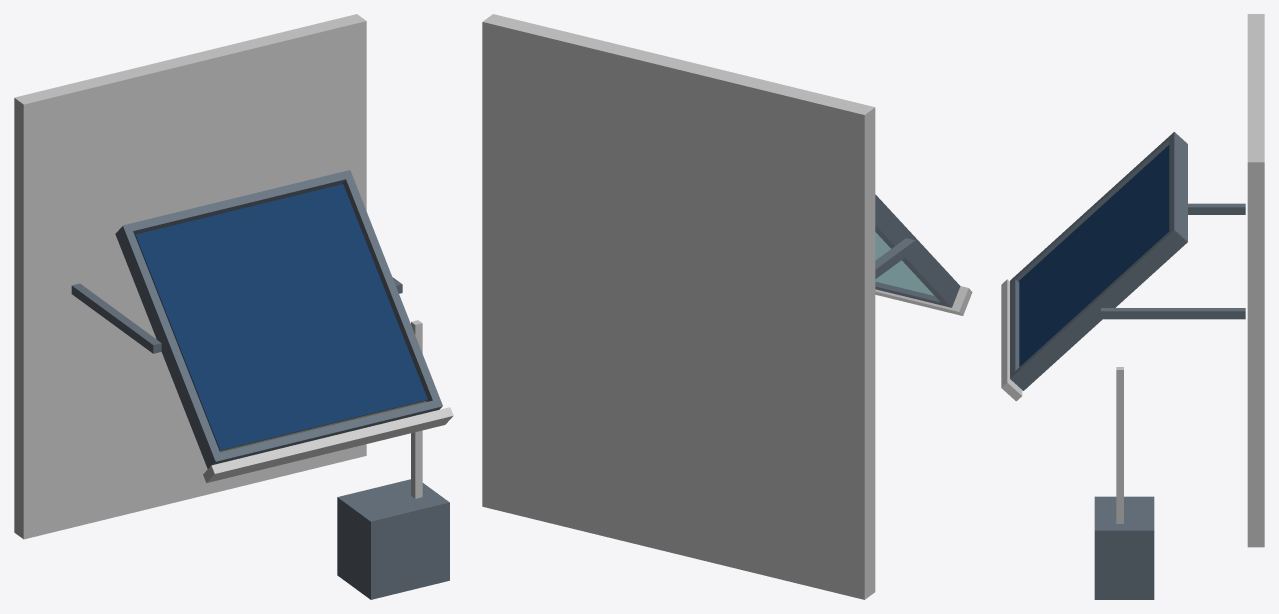
Rendered from facade-solar.obj.
3 views of the same model, side by side, from view 1: azimuth 30°, elevation 25°; view 2: azimuth 150°, elevation 25°; view 3: azimuth 270°, elevation 25° (orthographic). The views are drawn at different scales.
Parts seen in each view (by area): view 1: facade_section, pv_face, tank_concept, side_frame, edge_frame, drain_channel_concept, standoff, drain_riser_concept, thermal_core; view 2: facade_section, side_frame, dew_face, drain_channel_concept, standoff; view 3: pv_face, facade_section, tank_concept, side_frame, edge_frame, standoff, drain_riser_concept, drain_channel_concept.
Part boxes in pixels (x1,y1,x2,y2): facade_section: (14, 14, 366, 539); pv_face: (135, 184, 427, 450); tank_concept: (337, 479, 449, 599); side_frame: (115, 170, 442, 468); edge_frame: (116, 170, 442, 464); drain_channel_concept: (203, 407, 453, 482); standoff: (71, 277, 402, 353); drain_riser_concept: (411, 320, 422, 498); thermal_core: (135, 236, 426, 452); facade_section: (482, 14, 875, 599); side_frame: (875, 194, 960, 307); dew_face: (875, 232, 934, 295); drain_channel_concept: (875, 286, 972, 315); standoff: (875, 238, 915, 278); pv_face: (1019, 145, 1169, 366); facade_section: (1247, 14, 1264, 547); tank_concept: (1094, 496, 1154, 599); side_frame: (1010, 132, 1187, 390); edge_frame: (1010, 132, 1187, 390); standoff: (1101, 203, 1245, 319); drain_riser_concept: (1116, 367, 1123, 523); drain_channel_concept: (1001, 279, 1022, 401).
Bounding box in the file's own units: 1.65 × 2.28 × 1.24.
